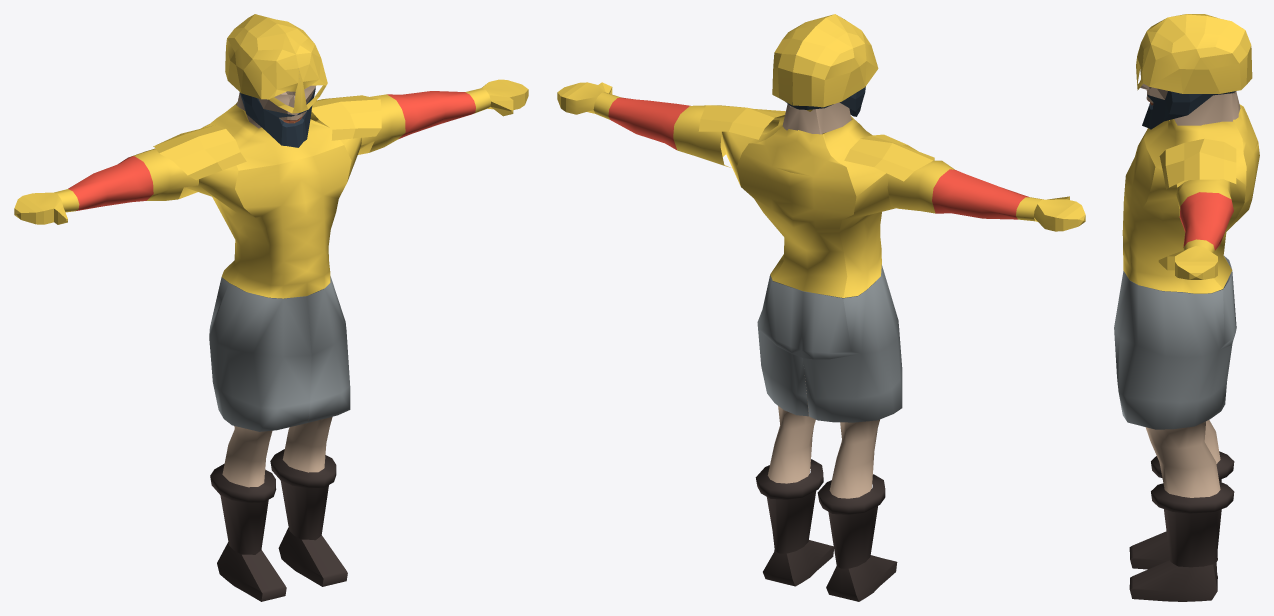
The model's file is warrior3.fbx.
3 views of the same model, side by side, from view 1: azimuth 30°, elevation 25°; view 2: azimuth 150°, elevation 25°; view 3: azimuth 270°, elevation 25° (orthographic). The views are drawn at different scales.
Parts seen in each view (by area): view 1: Armor, Skirt, Boots, Helmet1.002, Skin, CABEZA.002; view 2: Armor, Skirt, Boots, Helmet1.002, Skin; view 3: Armor, Skirt, Boots, Helmet1.002, Skin, CABEZA.002.
Part boxes in pixels (bbox=[...]): Armor: bbox=[14, 79, 528, 298]; Skirt: bbox=[209, 276, 350, 431]; Boots: bbox=[210, 449, 347, 601]; Helmet1.002: bbox=[225, 14, 327, 113]; Skin: bbox=[222, 92, 332, 487]; CABEZA.002: bbox=[240, 85, 315, 147]; Armor: bbox=[557, 82, 1085, 297]; Skirt: bbox=[757, 265, 902, 422]; Boots: bbox=[755, 459, 897, 601]; Helmet1.002: bbox=[772, 14, 878, 107]; Skin: bbox=[767, 102, 879, 498]; Armor: bbox=[1122, 104, 1259, 293]; Skirt: bbox=[1114, 256, 1236, 429]; Boots: bbox=[1129, 451, 1234, 601]; Helmet1.002: bbox=[1136, 14, 1252, 93]; Skin: bbox=[1145, 91, 1240, 497]; CABEZA.002: bbox=[1140, 83, 1236, 129].
Size of the model in its own units: 2952 by 3047 by 713.
